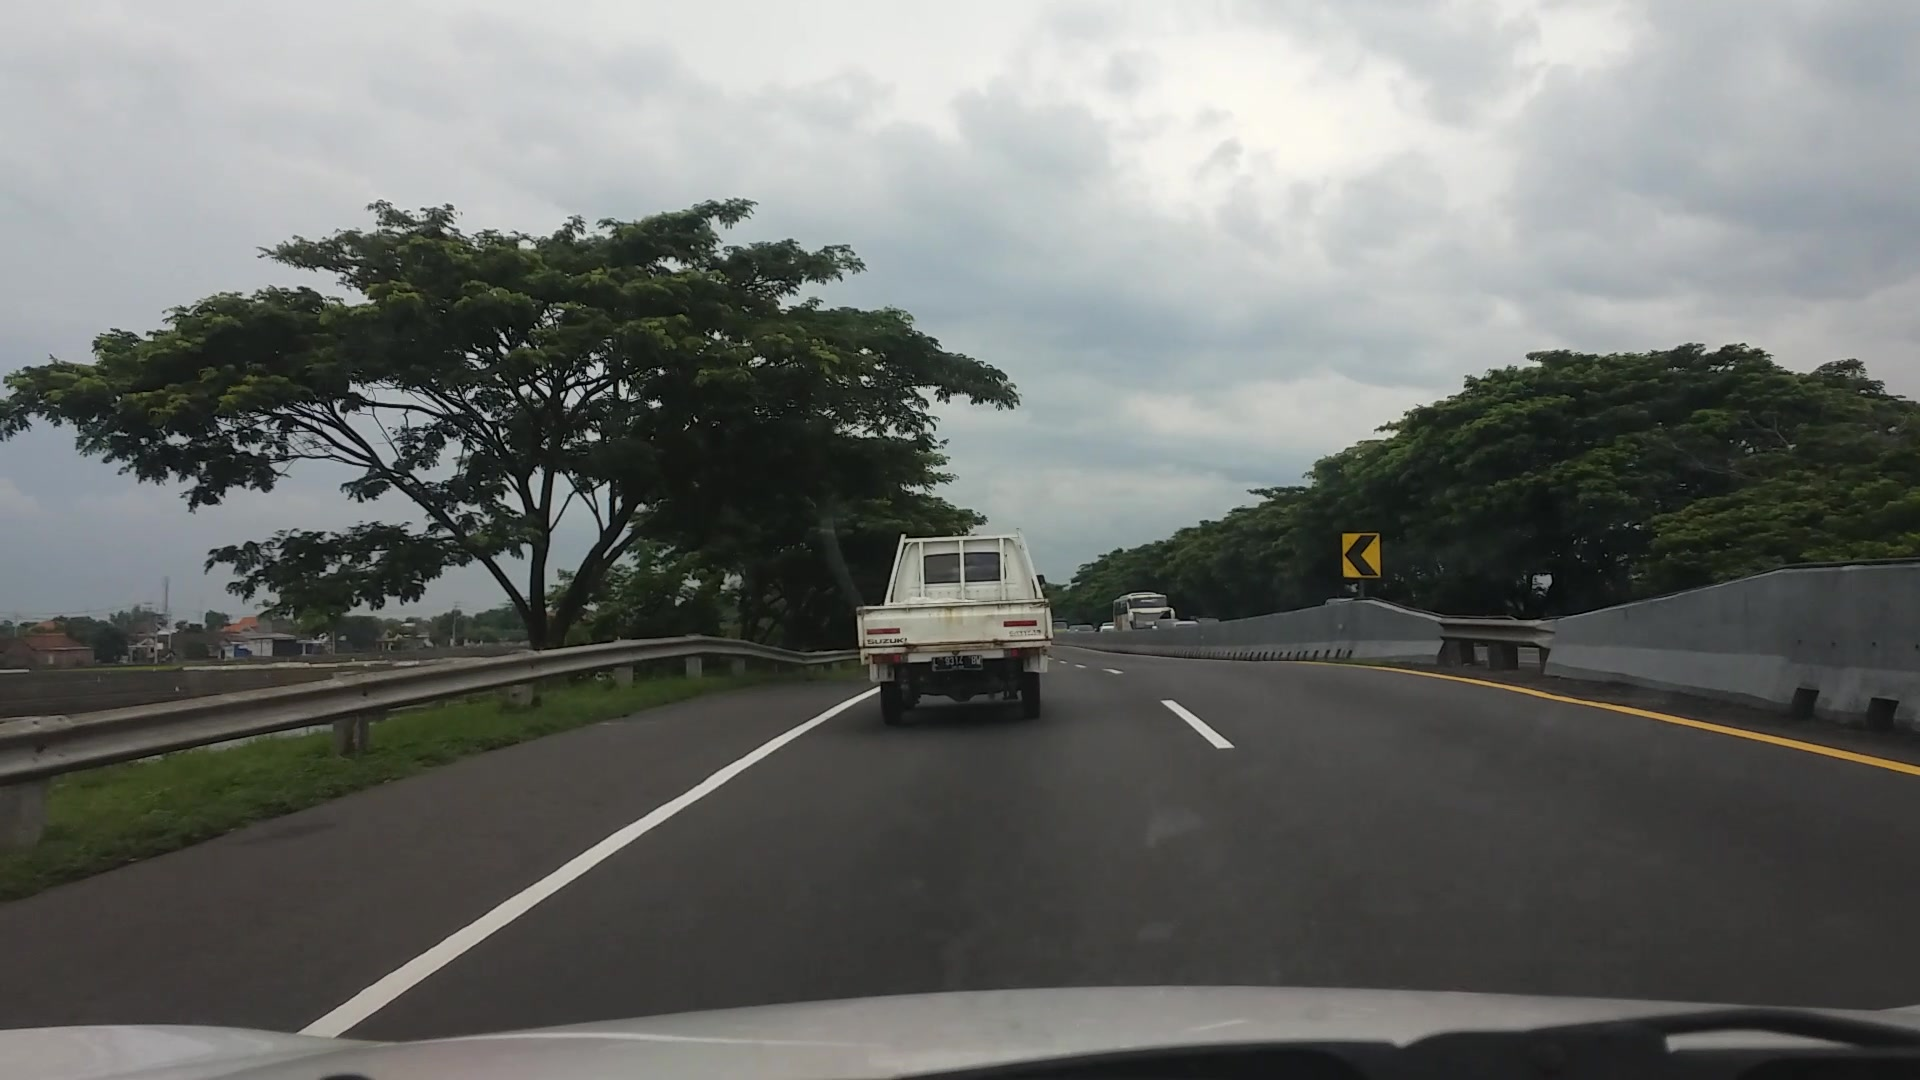plate_positive: (931, 655, 982, 671)
